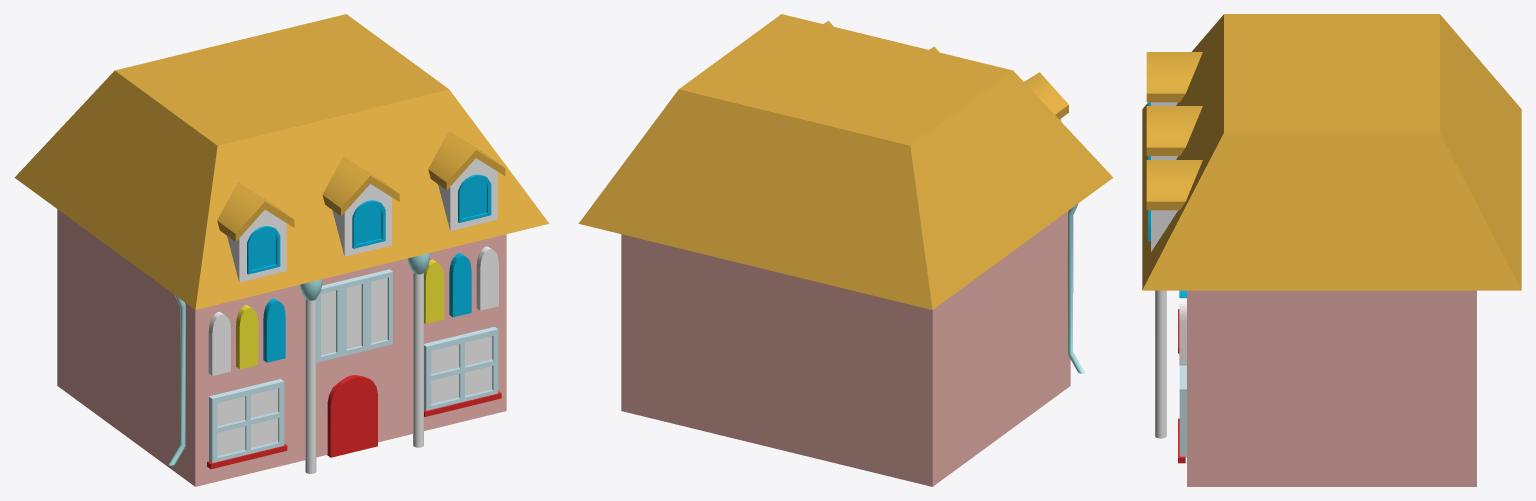
3 renders of one model, left to right at view 1: azimuth 30°, elevation 25°; view 2: azimuth 150°, elevation 25°; view 3: azimuth 270°, elevation 25°, orthographic. The views are drawn at different scales.
Parts seen in each view (by area): view 1: Box002, Box001, Box023, Box021, Box010, Box009, Cylinder001, Box006, Box007, Box008, Cylinder002, Box003 (+12 smaller); view 2: Box002, Box001, Cylinder005, Box007; view 3: Box002, Box001, Box007, Box008, Box006, Cylinder002, Box010, Box005, Box013.
Boxes of the visible parts, bbox=[...] form: Box002: bbox=[14, 14, 549, 309]; Box001: bbox=[57, 209, 506, 486]; Box023: bbox=[316, 269, 392, 362]; Box021: bbox=[209, 379, 284, 462]; Box010: bbox=[424, 326, 498, 410]; Box009: bbox=[327, 375, 377, 457]; Cylinder001: bbox=[305, 299, 316, 473]; Box006: bbox=[322, 156, 399, 215]; Box007: bbox=[217, 182, 294, 241]; Box008: bbox=[428, 130, 505, 190]; Cylinder002: bbox=[413, 272, 423, 447]; Box003: bbox=[332, 184, 391, 256]; Box002: bbox=[578, 14, 1113, 309]; Box001: bbox=[621, 211, 1070, 486]; Cylinder005: bbox=[1067, 203, 1084, 373]; Box007: bbox=[1024, 72, 1068, 119]; Box002: bbox=[1142, 14, 1521, 290]; Box001: bbox=[1187, 290, 1476, 486]; Box007: bbox=[1146, 52, 1202, 102]; Box008: bbox=[1146, 160, 1202, 210]; Box006: bbox=[1146, 106, 1202, 155]; Cylinder002: bbox=[1155, 290, 1166, 438]; Box010: bbox=[1179, 365, 1186, 457]; Box005: bbox=[1151, 210, 1177, 251]; Box013: bbox=[1179, 298, 1186, 365].
Bounding box in the file's own units: 739 × 637 × 654.
Materials: 9 (2 with a texture image).
